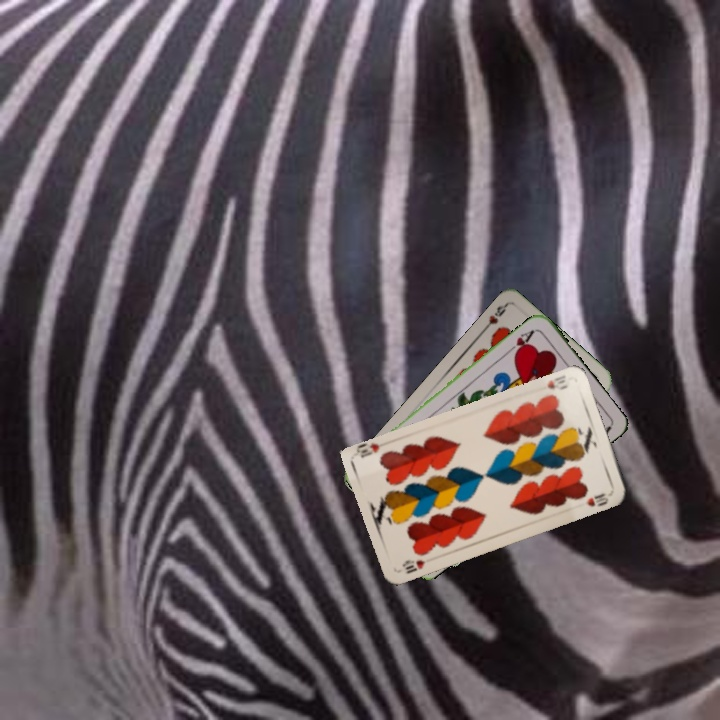H10: (398, 556, 428, 576), (543, 371, 571, 392)
H9: (478, 300, 509, 334)
HA: (504, 325, 538, 358)
